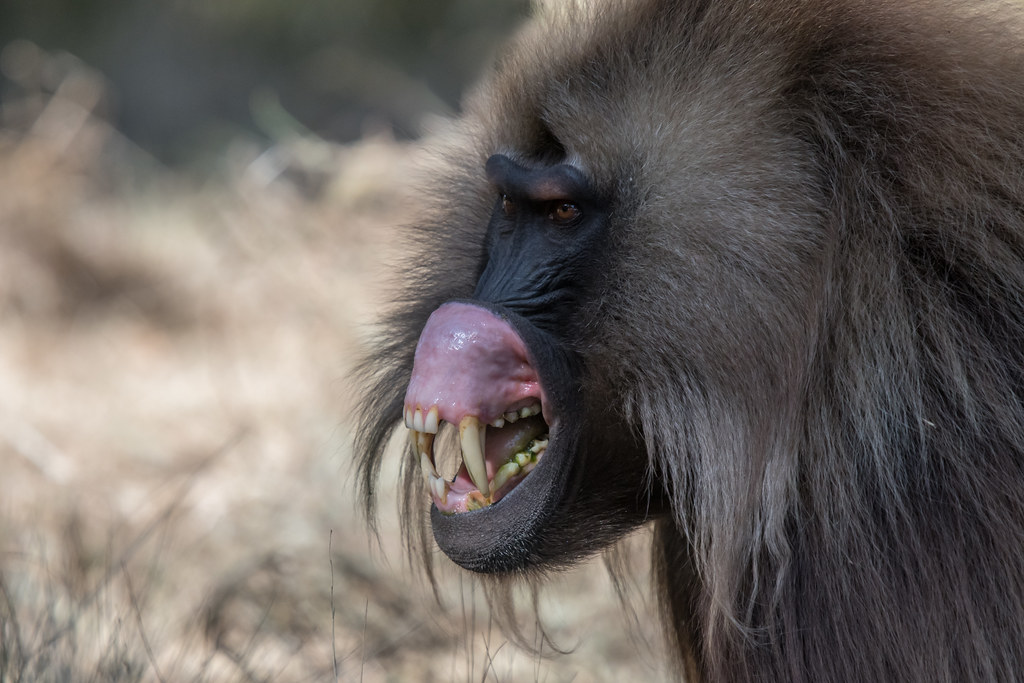Gelada: (410, 10, 1004, 667)
